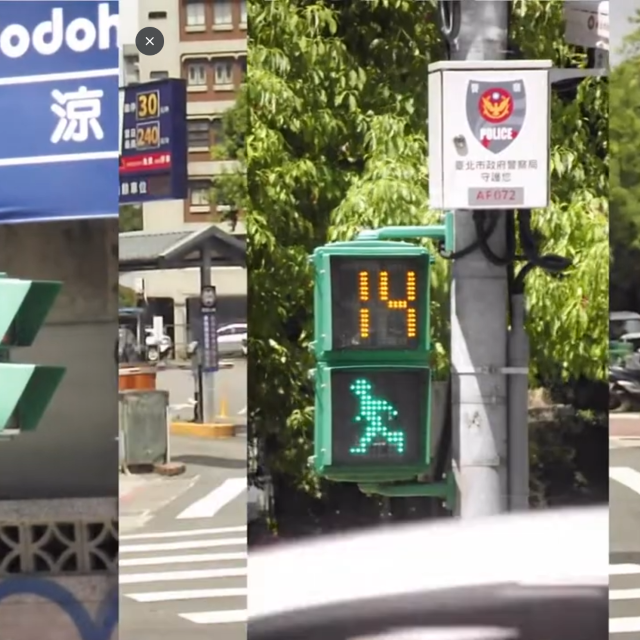green_light: (315, 249, 430, 473)
